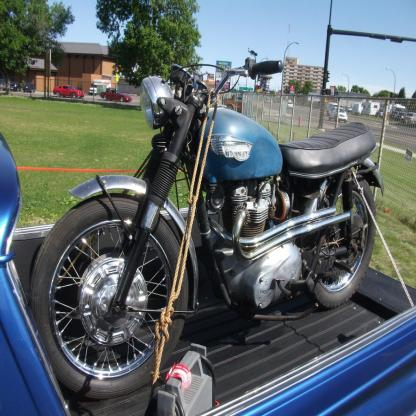Car: (54, 86, 86, 100), (102, 90, 133, 103), (329, 107, 349, 123), (24, 83, 37, 93), (406, 114, 416, 127), (11, 82, 22, 93), (1, 80, 7, 91), (287, 102, 295, 110), (265, 99, 271, 105)
